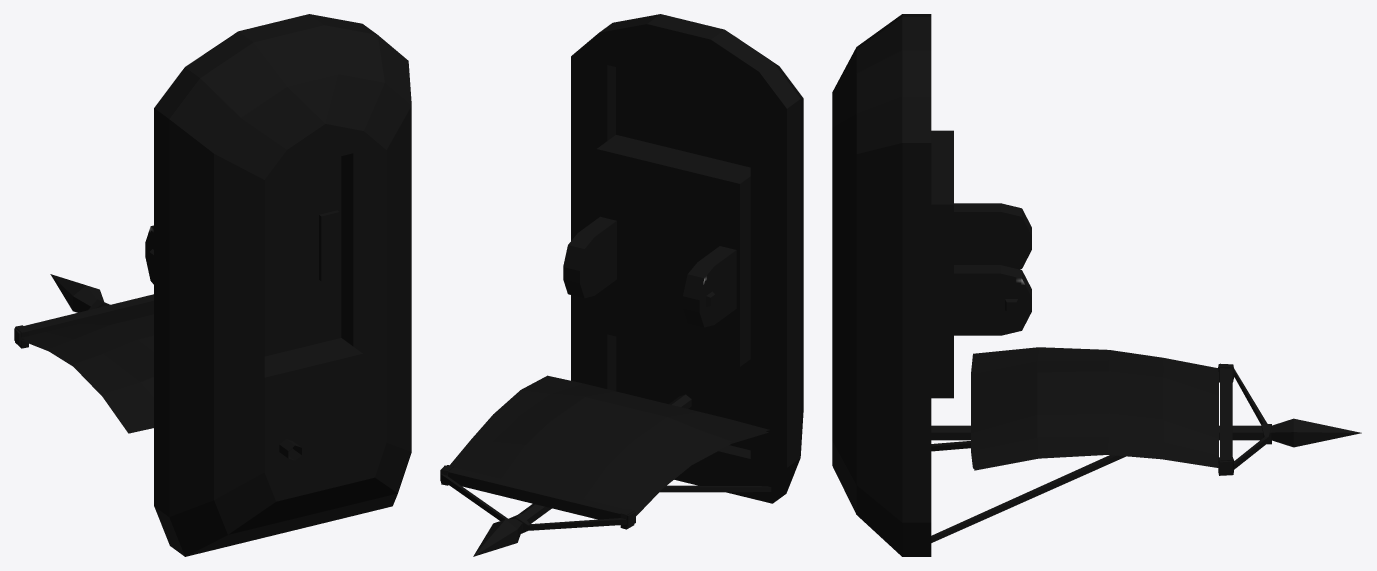
File: pirate_cannon_enemy_ship_0.fbx
The picture shows the model from 3 angles, left to right: view 1: azimuth 30°, elevation 25°; view 2: azimuth 150°, elevation 25°; view 3: azimuth 270°, elevation 25°; orthographic projection. The views are drawn at different scales.
Parts seen in each view (by area): view 1: Cube.546; view 2: Cube.546; view 3: Cube.546.
Boxes of the visible parts, left/top/right/bottom form: Cube.546: left=14, top=14, right=411, bottom=556; Cube.546: left=440, top=14, right=803, bottom=556; Cube.546: left=832, top=14, right=1361, bottom=556.
Bounding box in the file's own units: 215 × 414 × 419.
